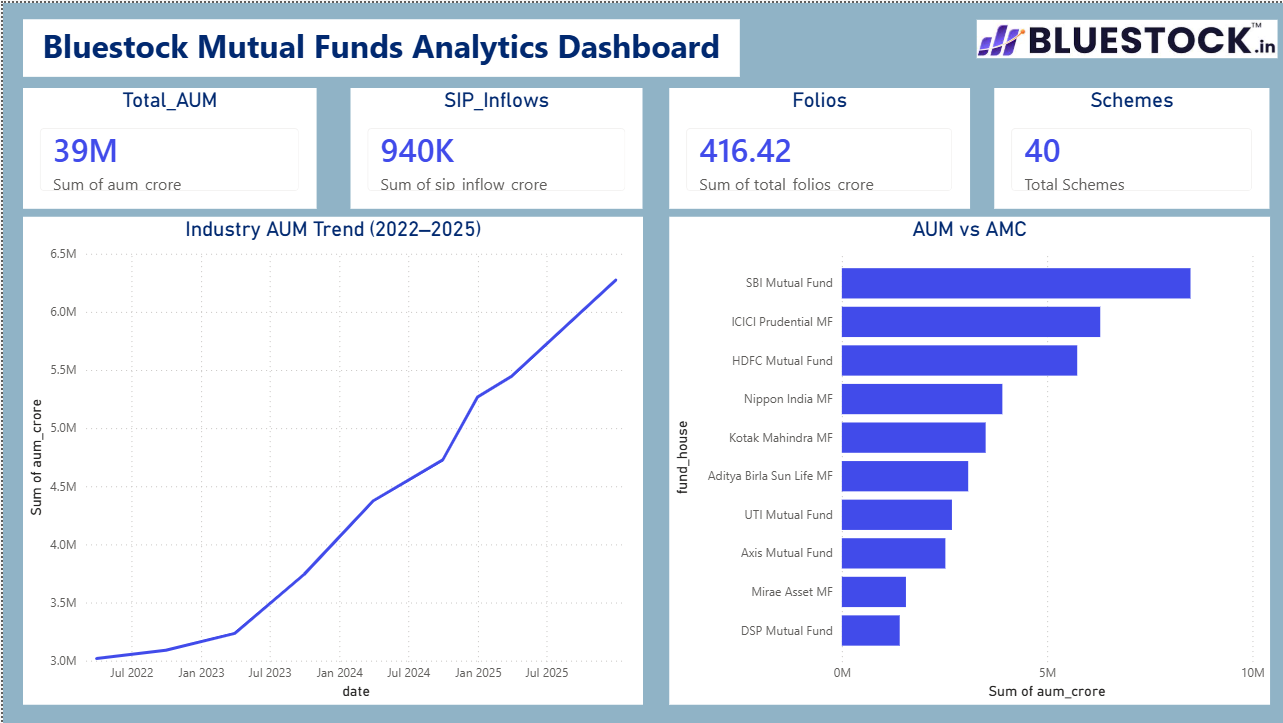

The dashboard page shown, as its layout file describes it:
{"tool":"powerbi","page":{"name":"Industry Overview","canvas":[1280,720],"ordinal":0},"visuals":[{"type":"cardVisual","title":"Total_AUM","fields":{"Data":["Sum(03_aum_by_fund_house_clean.aum_crore)"]},"box":[19.6,84.4,293.5,121.1],"z":0},{"type":"cardVisual","title":"SIP_Inflows","fields":{"Data":["Sum(04_monthly_sip_inflows_clean.sip_inflow_crore)"]},"box":[347.3,84.4,292.3,121.1],"z":1000},{"type":"cardVisual","title":"Folios","fields":{"Data":["Sum(06_industry_folio_count_clean.total_folios_crore)"]},"box":[666.4,84.4,300.8,121.1],"z":2000},{"type":"cardVisual","title":"Schemes","fields":{"Data":["01_fund_master_clean.Total Schemes"]},"box":[991.7,84.4,275.1,121.1],"z":3000},{"type":"lineChart","title":"Industry AUM Trend (2022–2025)","fields":{"Y":["Sum(03_aum_by_fund_house_clean.aum_crore)"],"Category":["03_aum_by_fund_house_clean.date"]},"box":[19.6,214,620,487.9],"z":4000},{"type":"clusteredBarChart","title":"AUM vs AMC","fields":{"Y":["Sum(03_aum_by_fund_house_clean.aum_crore)"],"Category":["03_aum_by_fund_house_clean.fund_house"]},"box":[666.4,214,600.4,487.9],"z":5000},{"type":"textbox","box":[19.6,15.9,716.6,57.5],"z":5001},{"type":"image","box":[973.9,0,300.5,72.3],"z":5002}]}

Visuals, with their boxes in screenshot pixels (x1, y1, x2, y2), scaled from the page's 1280x720 canvas onto the 1283x723 screenshot:
"Total_AUM" cardVisual: (20, 85, 314, 206)
"SIP_Inflows" cardVisual: (348, 85, 641, 206)
"Folios" cardVisual: (668, 85, 969, 206)
"Schemes" cardVisual: (994, 85, 1270, 206)
"Industry AUM Trend (2022–2025)" lineChart: (20, 215, 641, 705)
"AUM vs AMC" clusteredBarChart: (668, 215, 1270, 705)
textbox: (20, 16, 738, 74)
image: (976, 0, 1277, 73)
